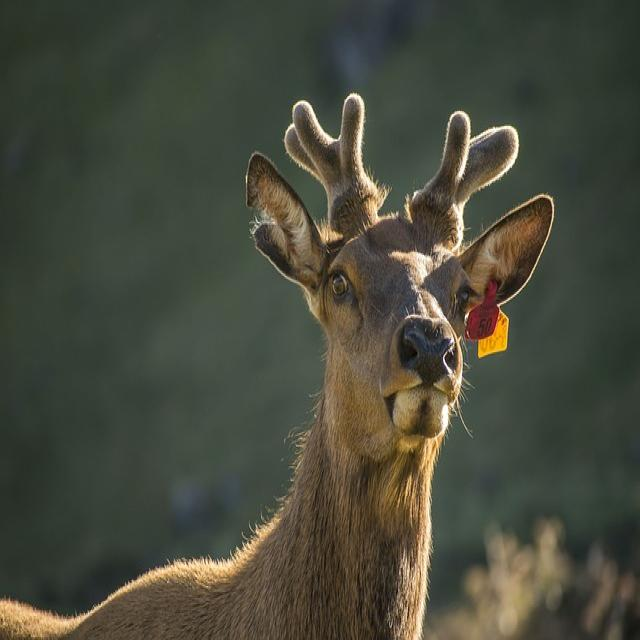Reindeer: (0, 97, 556, 640)
